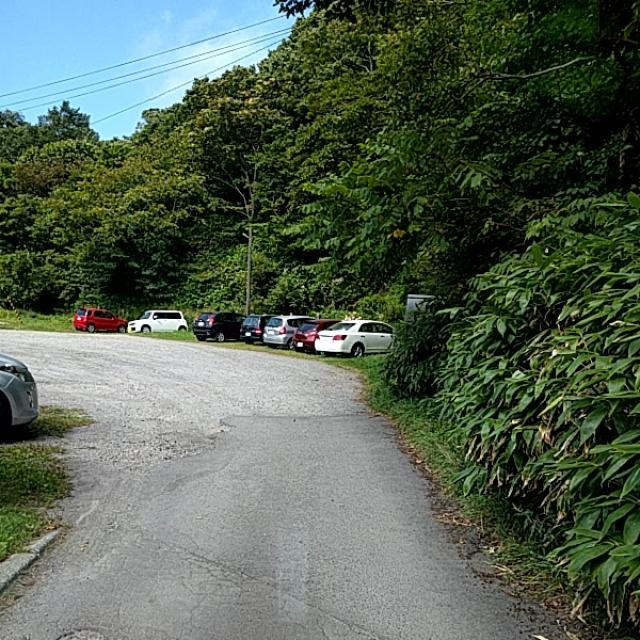pothole: (141, 511, 290, 615)
